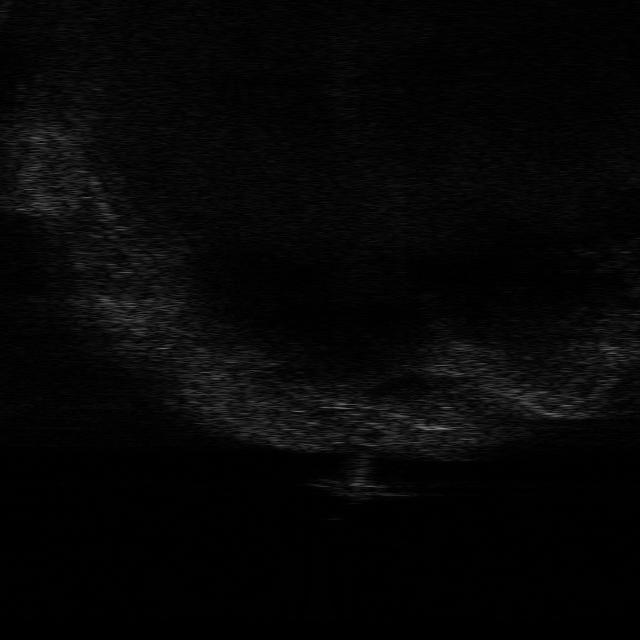plane: (306, 461, 412, 500)
